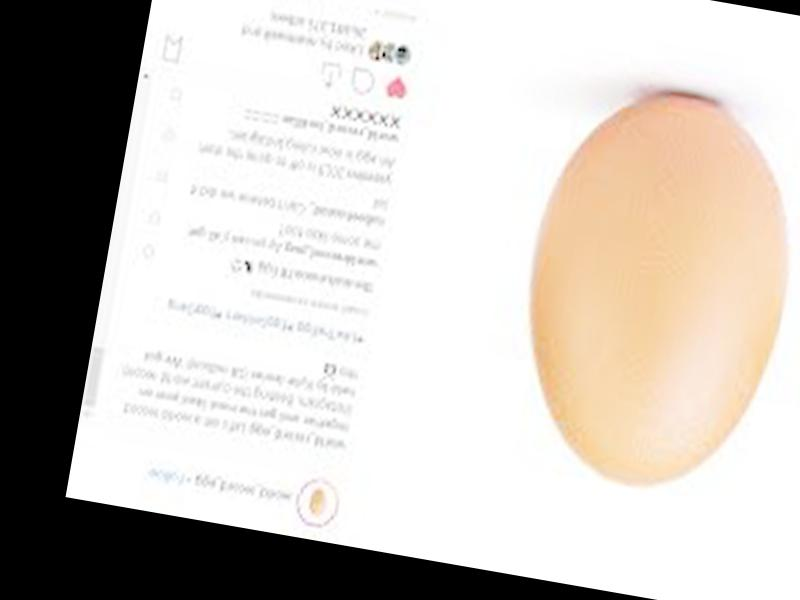Eggs: (499, 79, 800, 503)
